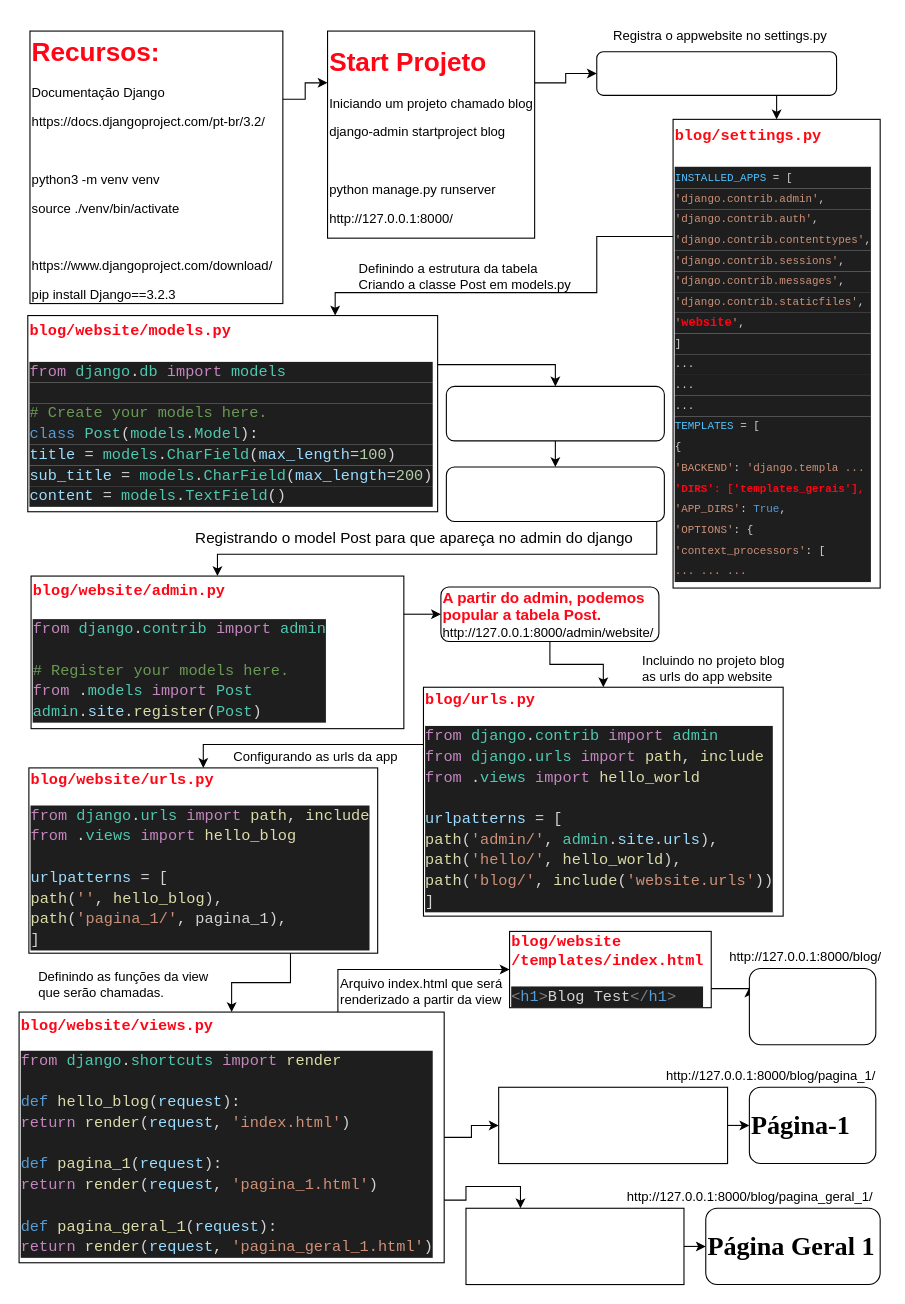
Some shapes in this 905 by 1304 pixel diagram are drawn without their labels. The shapes that lost their labels are listed below. From the top down, each one's centre as x and y in pixels, then its label:
At (x=716, y=73): "Criando App website python manage.py startapp website".
At (x=554, y=413): "Criando a estrutura do model Post em migrations python manage.py makemigrations".
At (x=554, y=494): "Criando a tabela Post no db python manage.py migrate".
At (x=812, y=1006): "Blog Test".
At (x=613, y=1125): "blog/website /templates/pagina_1.html < h1 > Blog Test </ h1 >".
At (x=574, y=1246): "templates_gerais / pagina_geral_1.html < h1 > Página Geral 1 </ h1 >".
